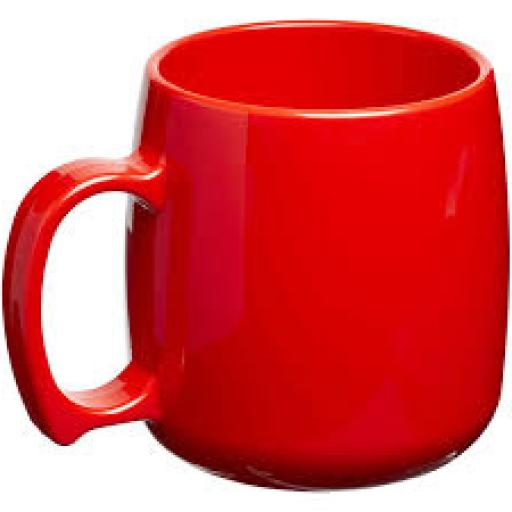red mug: (4, 21, 506, 489)
